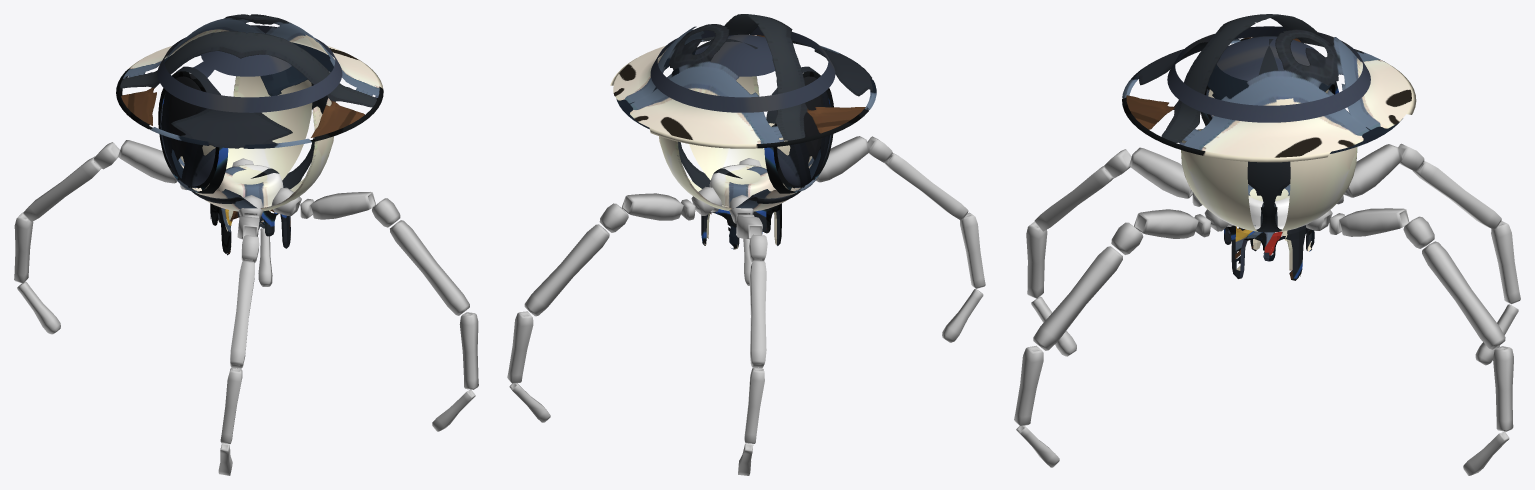
The model's file is spawner enemy.fbx.
The picture shows the model from 3 angles, left to right: view 1: azimuth 30°, elevation 25°; view 2: azimuth 150°, elevation 25°; view 3: azimuth 270°, elevation 25°; orthographic projection. The views are drawn at different scales.
Visible parts, largest first — view 1: Cube.033, Cube.034; view 2: Cube.033, Cube.034; view 3: Cube.033, Cube.034.
Boxes of the visible parts, <box> form: Cube.033: <box>116,14,383,255</box>; Cube.034: <box>14,140,478,475</box>; Cube.033: <box>610,14,876,249</box>; Cube.034: <box>507,136,985,475</box>; Cube.033: <box>1122,14,1416,280</box>; Cube.034: <box>1014,143,1520,475</box>.
Size of the model in its own units: 155 by 200 by 235.
